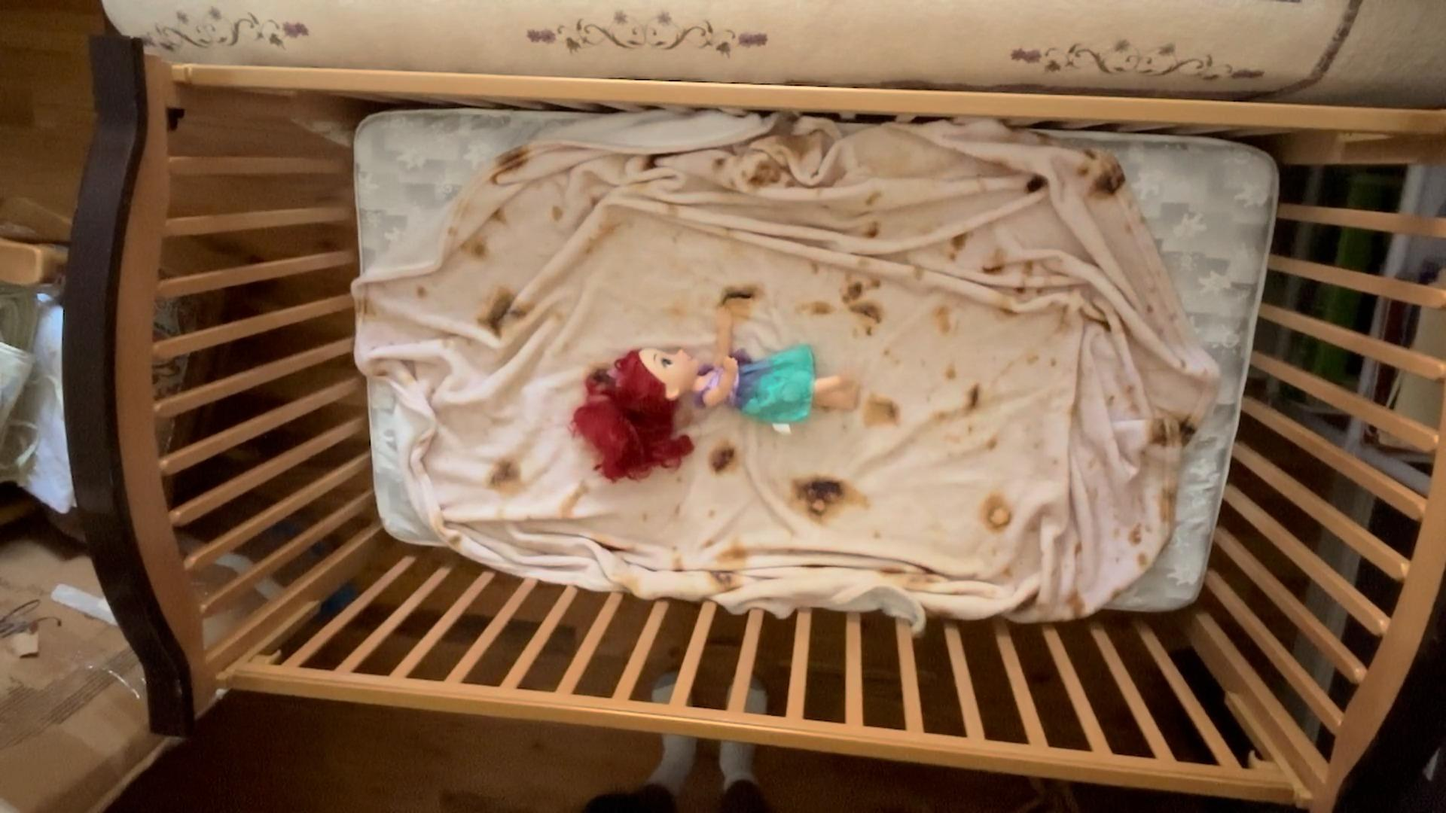baby: (576, 306, 863, 485)
